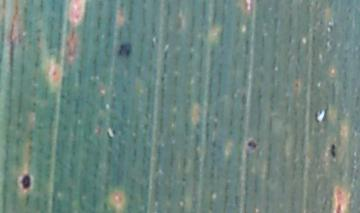tarspot: (117, 42, 133, 58), (20, 174, 32, 188), (330, 142, 337, 158), (247, 140, 257, 149), (336, 204, 342, 213)
